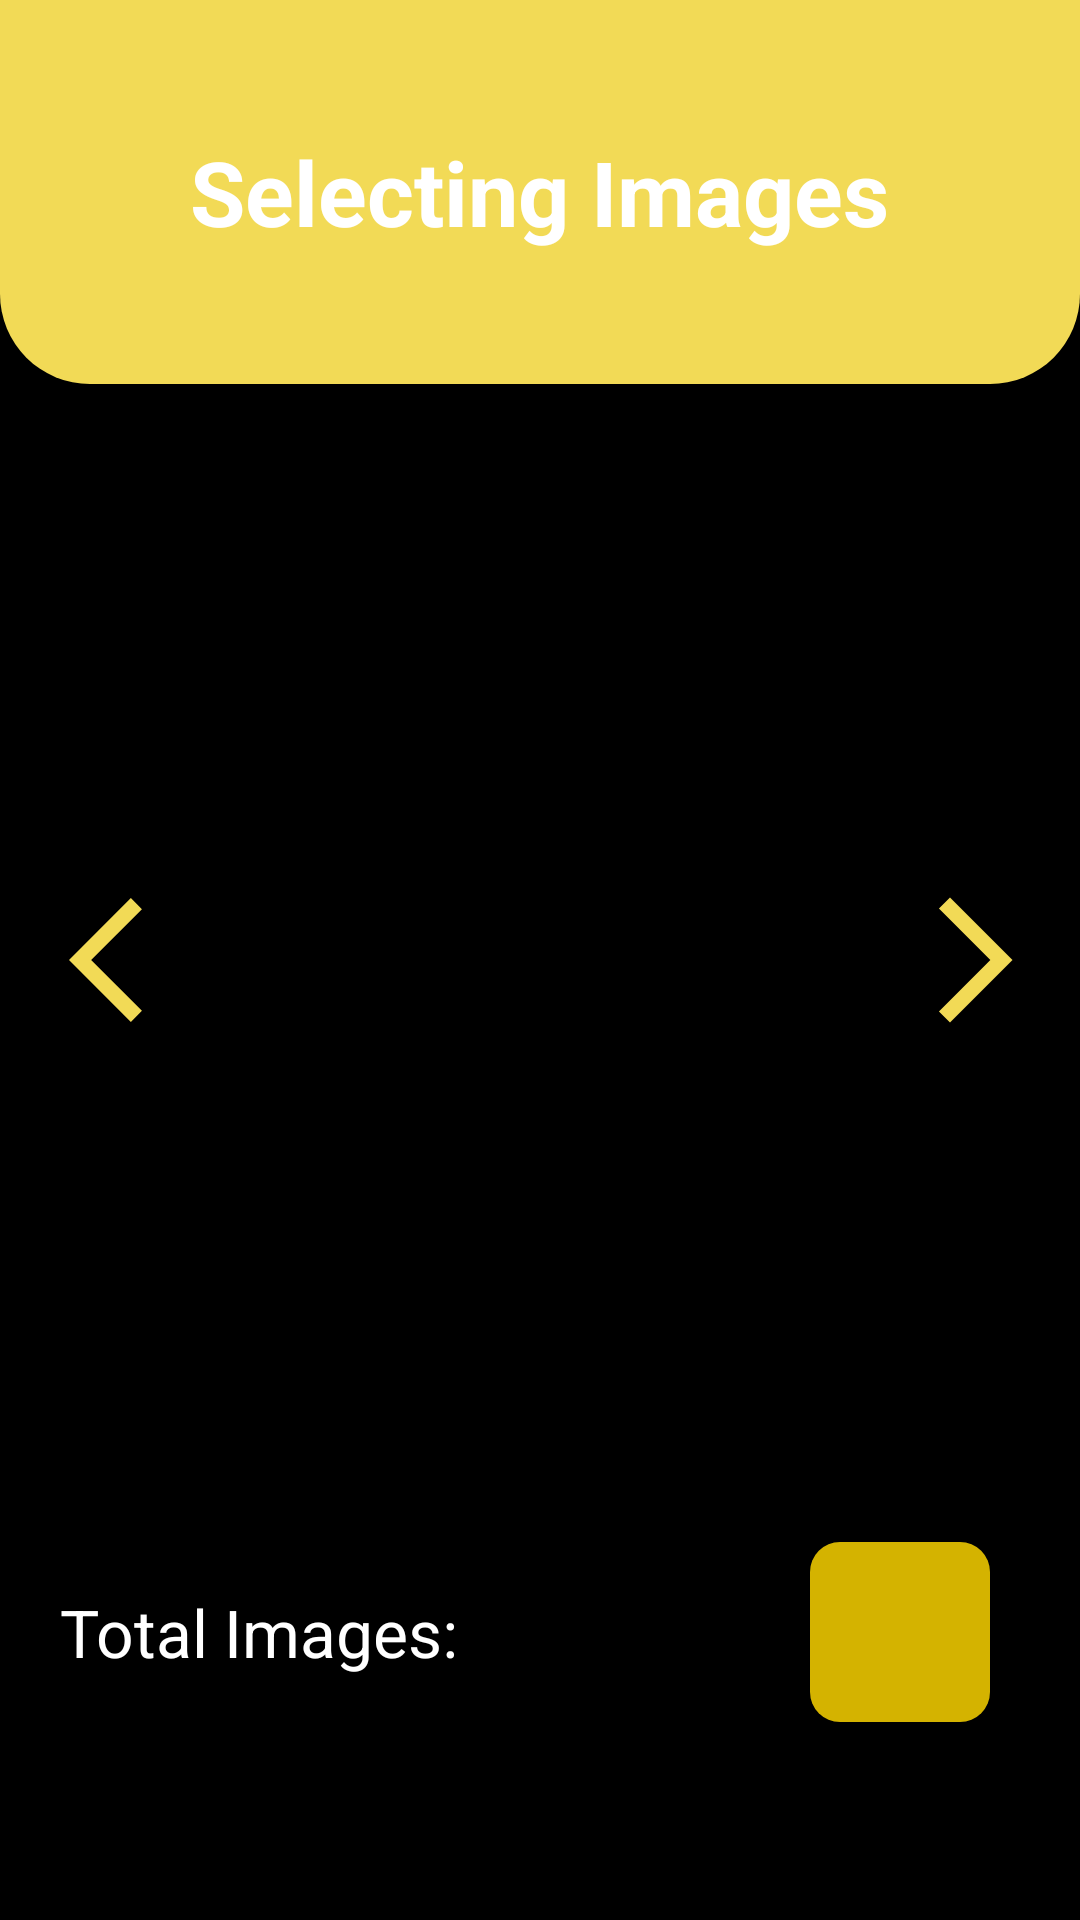

Where icons sit on this 1080px x 1920px app screen, as (x1, y1, x2, y2):
arrow back: (69, 898, 142, 1022)
arrow forward: (939, 897, 1013, 1023)
